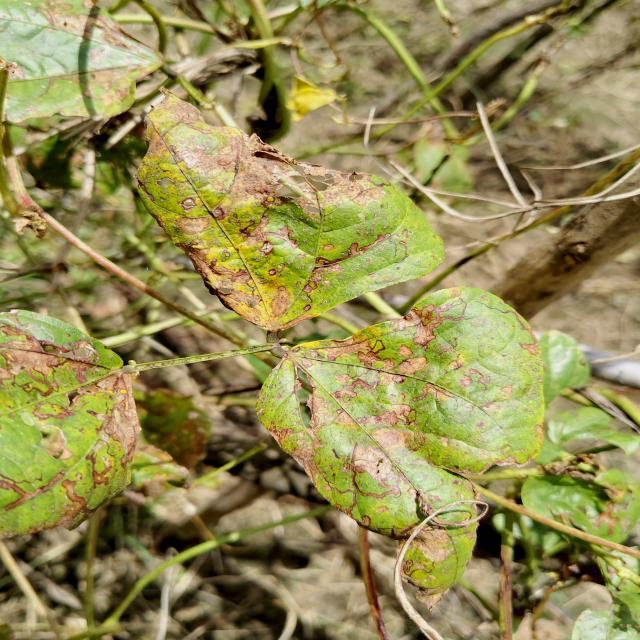leaf-moderate: (258, 288, 588, 606), (137, 90, 445, 342), (0, 310, 140, 539), (523, 480, 637, 542)
